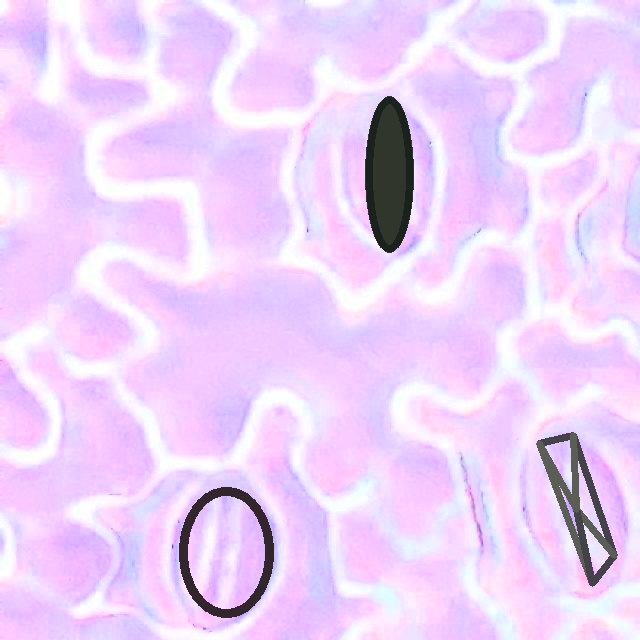open: (178, 486, 274, 619), (536, 432, 617, 586), (365, 95, 414, 252)
